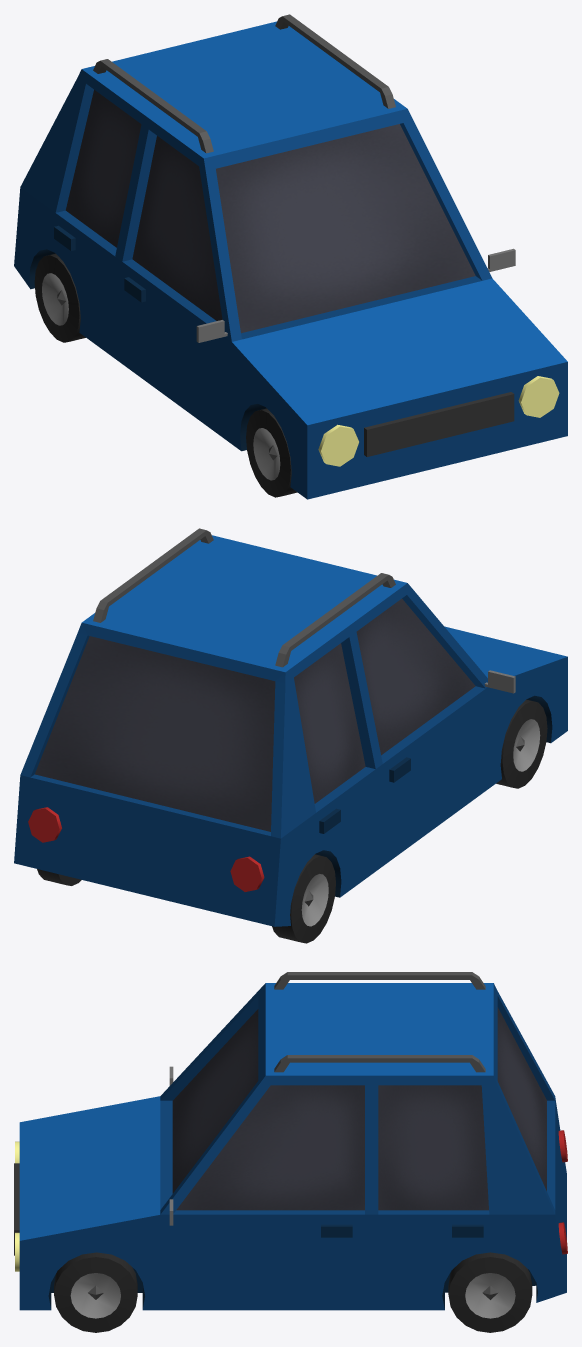
Rendered from Car_A1.fbx.
3 renders of one model, top to bottom at view 1: azimuth 30°, elevation 25°; view 2: azimuth 150°, elevation 25°; view 3: azimuth 270°, elevation 25°, orthographic. The views are drawn at different scales.
Parts seen in each view (by area): view 1: Car1_Body, Car1_RR, Car1_RF; view 2: Car1_Body, Car1_RR, Car1_RF; view 3: Car1_Body, Car1_LR, Car1_LF.
Part boxes in pixels (left/top/right/bottom): Car1_Body: left=14, top=14, right=567, bottom=499; Car1_RR: left=34, top=253, right=85, bottom=342; Car1_RF: left=246, top=408, right=297, bottom=497; Car1_Body: left=14, top=528, right=567, bottom=926; Car1_RR: left=272, top=854, right=335, bottom=943; Car1_RF: left=496, top=699, right=547, bottom=788; Car1_Body: left=14, top=972, right=567, bottom=1310; Car1_LR: left=448, top=1252, right=532, bottom=1332; Car1_LF: left=54, top=1252, right=137, bottom=1332.
Bounding box in the file's own units: 191 × 160 × 310.
1 material, 1 textured.
